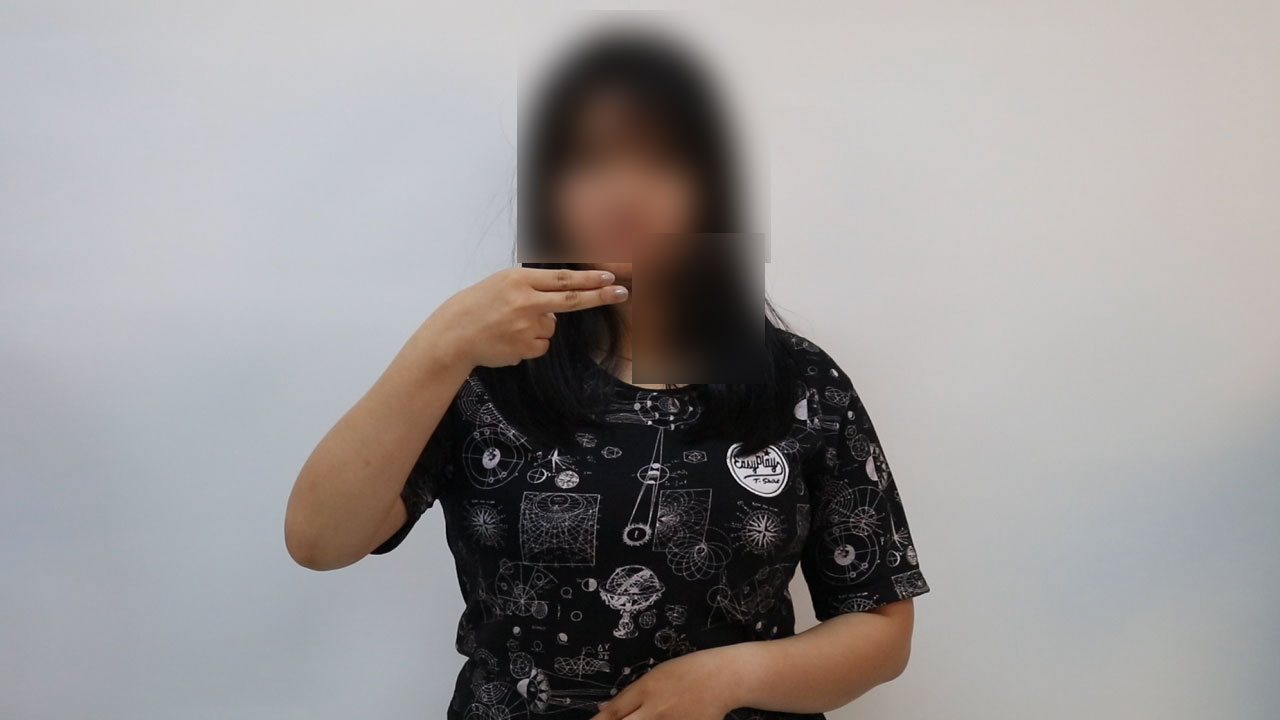hor: (419, 254, 643, 374)
